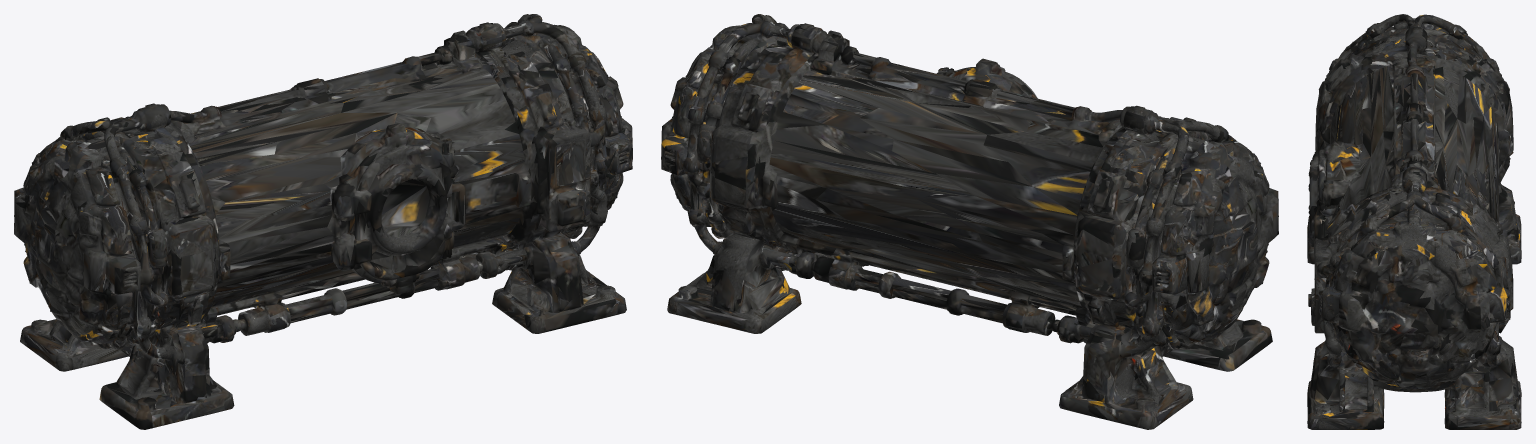
File: SM_A07K_DeconPod.fbx
The picture shows the model from 3 angles, left to right: view 1: azimuth 30°, elevation 25°; view 2: azimuth 150°, elevation 25°; view 3: azimuth 270°, elevation 25°; orthographic projection. The views are drawn at different scales.
Visible parts, largest first — view 1: SM_A07K_DeconPod; view 2: SM_A07K_DeconPod; view 3: SM_A07K_DeconPod.
Part boxes in pixels (left/top/right/bottom): SM_A07K_DeconPod: left=14, top=14, right=632, bottom=429; SM_A07K_DeconPod: left=661, top=14, right=1278, bottom=429; SM_A07K_DeconPod: left=1307, top=14, right=1521, bottom=429.
Size of the model in its own units: 320 by 145 by 124.
